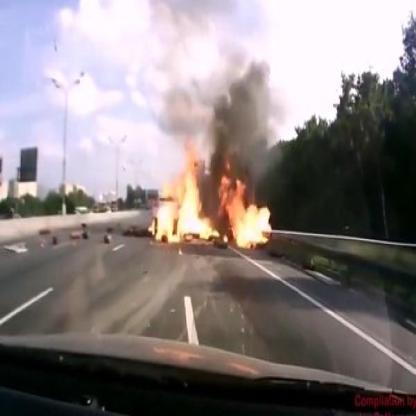fire: (144, 148, 274, 252)
